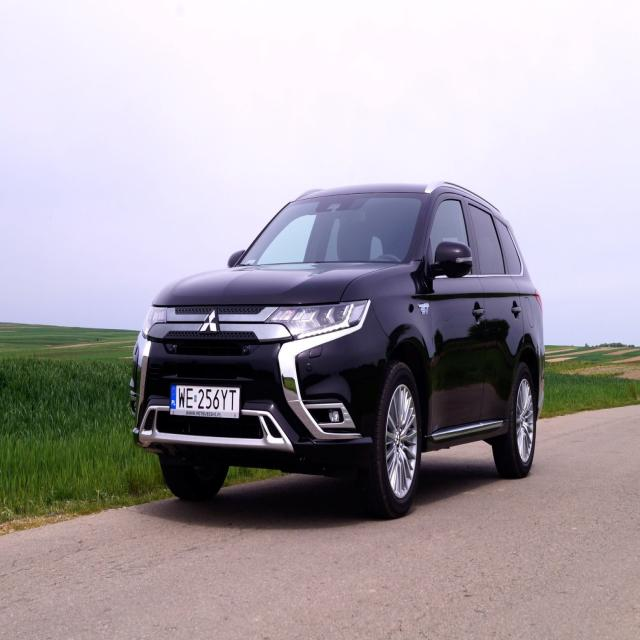light_vehicle: (129, 180, 546, 518)
